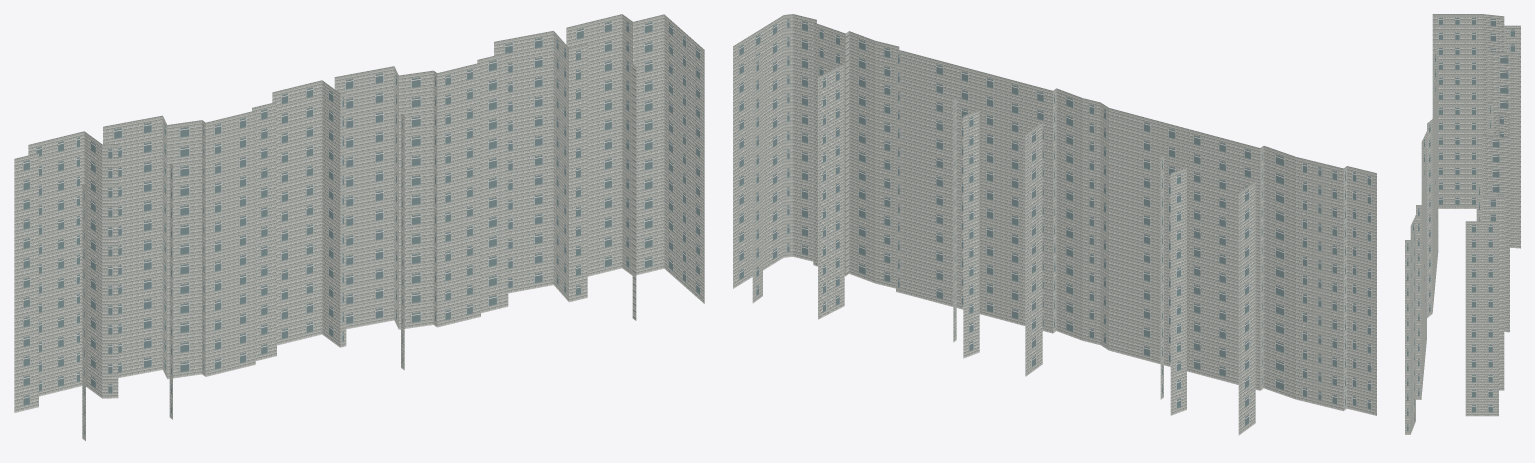
The picture shows the model from 3 angles, left to right: view 1: azimuth 30°, elevation 25°; view 2: azimuth 150°, elevation 25°; view 3: azimuth 270°, elevation 25°; orthographic projection. The views are drawn at different scales.
Bounding box in the file's own units: 103 × 39 × 21.
2 materials, 1 textured.
